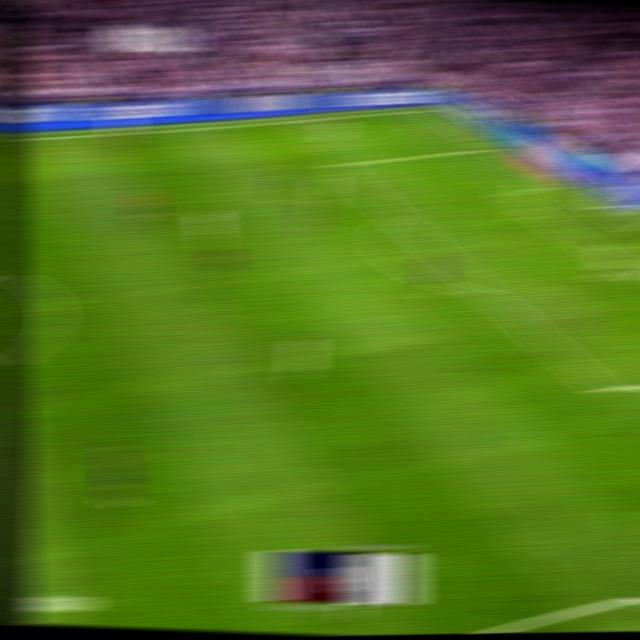bigarea_bottom_inner: (591, 378, 618, 403)
bigarea_top_outter: (480, 138, 507, 153)
bottom_arc_area_intersection: (473, 282, 499, 301)
corner: (418, 104, 442, 114)
smallarea_top_inner: (497, 188, 518, 198)
top_arc_area_intersection: (383, 206, 408, 224)
